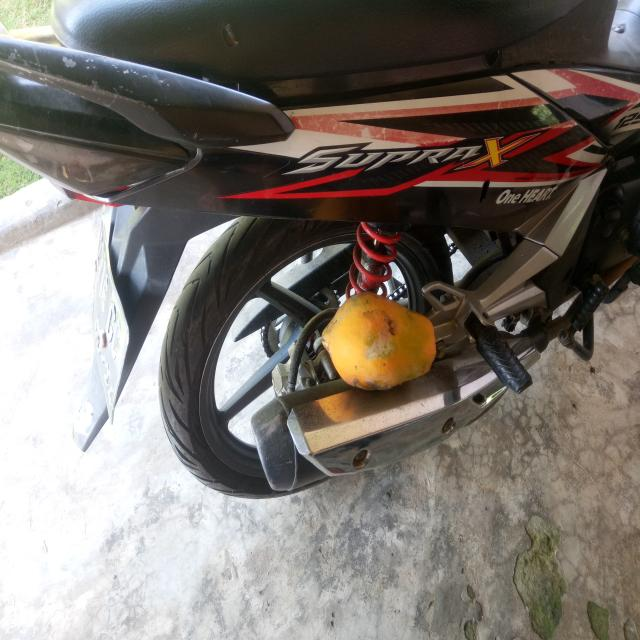Pepaya rippen: (323, 289, 444, 395)
